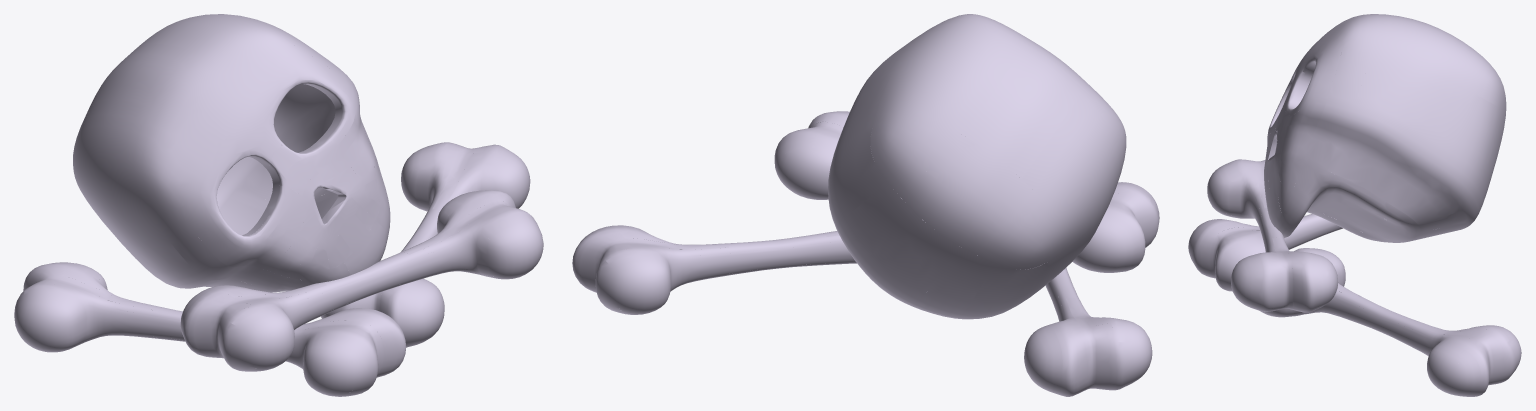
The model's file is skull-and-bones-07593d.glb.
The picture shows the model from 3 angles, left to right: view 1: azimuth 30°, elevation 25°; view 2: azimuth 150°, elevation 25°; view 3: azimuth 270°, elevation 25°; orthographic projection. The views are drawn at different scales.
Visible parts, largest first — view 1: PropMesh; view 2: PropMesh; view 3: PropMesh.
Part boxes in pixels (x1,y1,x2,y2): PropMesh: (14,14,543,396); PropMesh: (572,14,1159,396); PropMesh: (1188,14,1521,396).
Size of the model in its own units: 0.5145 by 0.2765 by 0.3347.
Materials: 1 (1 with a texture image).
